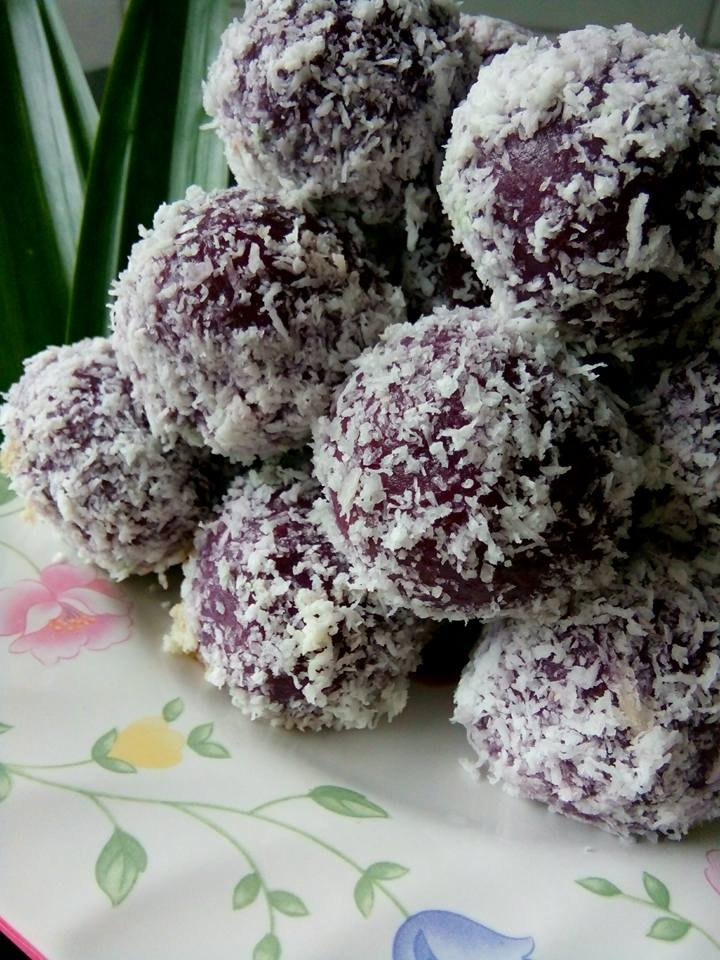klepon: (302, 285, 652, 627)
